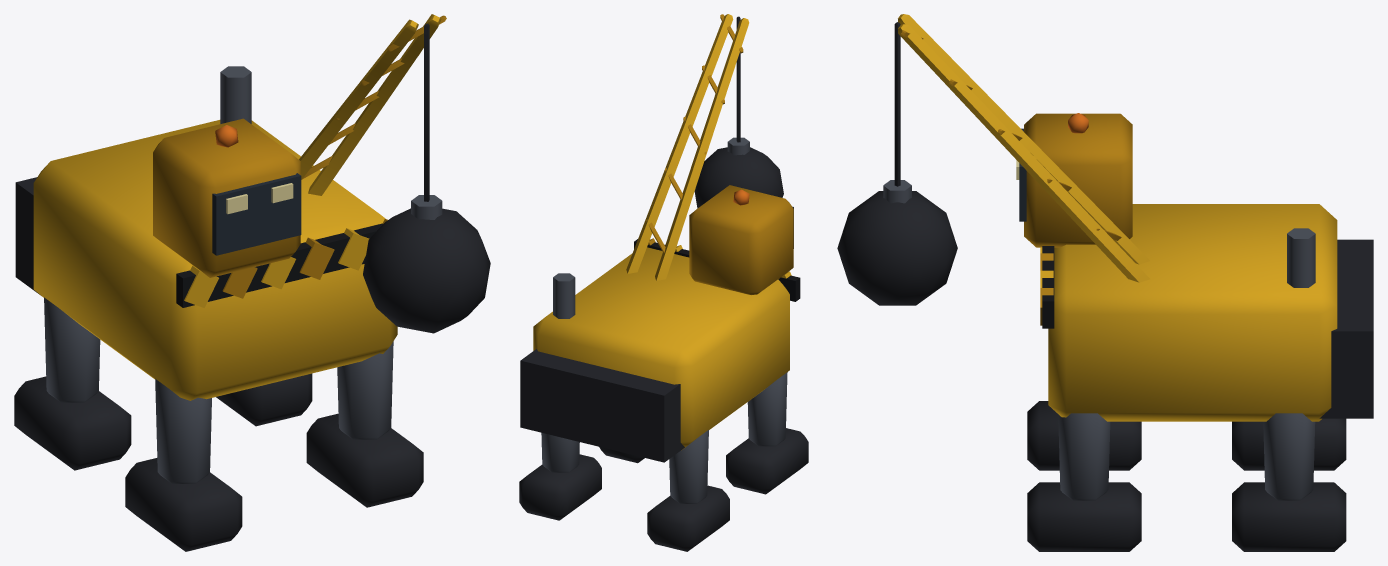
The model's file is e_maschinen_abrisskran.glb.
The picture shows the model from 3 angles, left to right: view 1: azimuth 30°, elevation 25°; view 2: azimuth 150°, elevation 25°; view 3: azimuth 270°, elevation 25°; orthographic projection. The views are drawn at different scales.
Parts seen in each view (by area): view 1: body; view 2: body; view 3: body.
Boxes of the visible parts, x1,y1,x2,y2 form: body: (14,14,490,551); body: (519,14,808,551); body: (837,14,1373,551).
Bounding box in the file's own units: 2.2 × 4.62 × 4.45.
